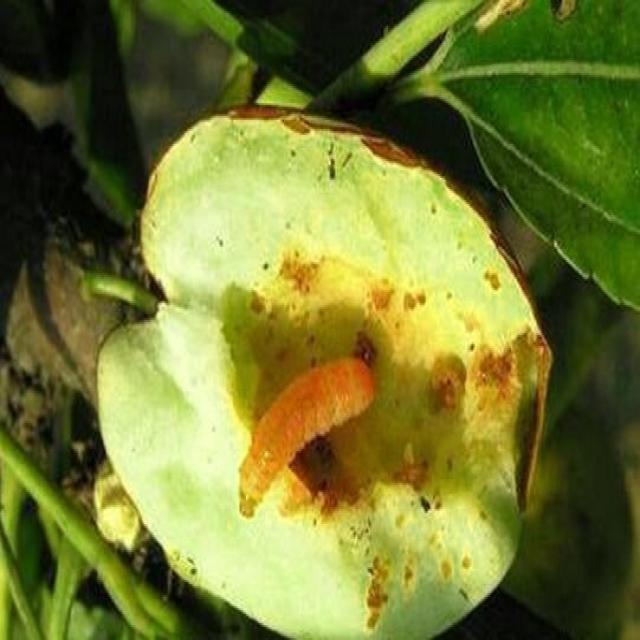peach borer: (238, 346, 375, 537)
